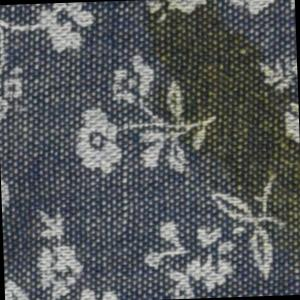Oil Stain: (142, 1, 300, 285)
